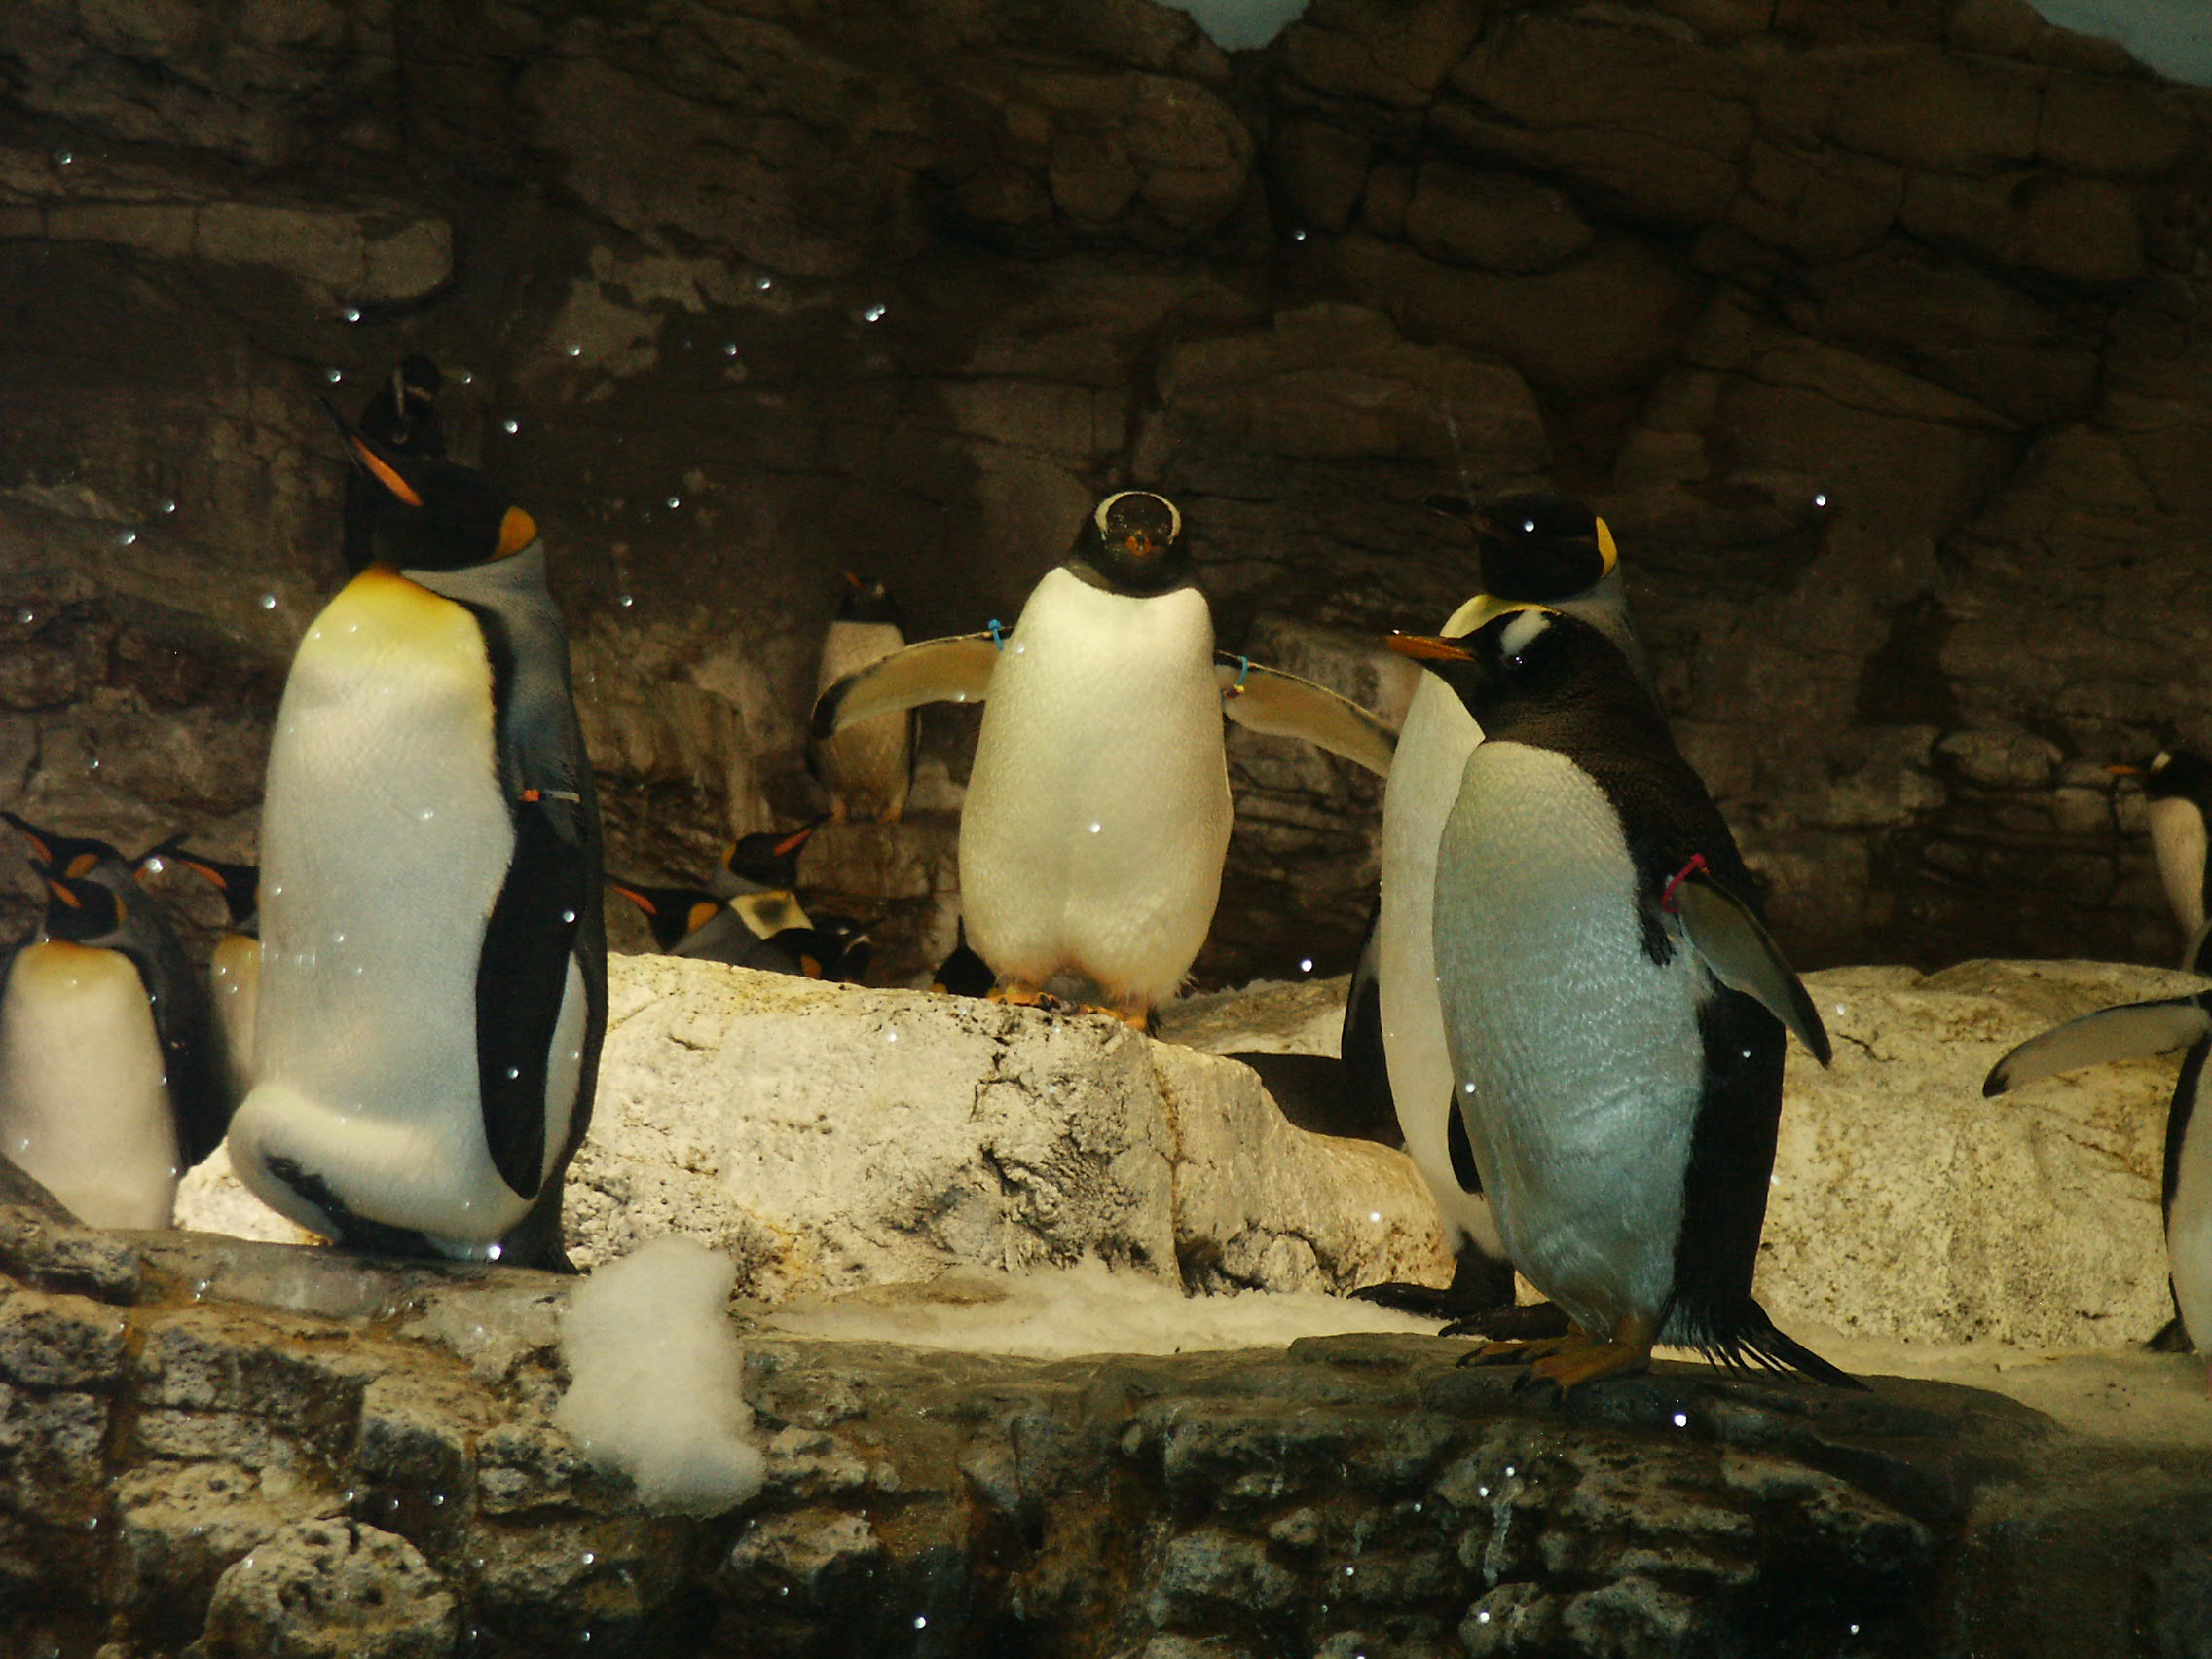penguin: (1388, 610, 1864, 1403), (249, 403, 613, 1276), (845, 493, 1392, 1018), (1399, 483, 1670, 1330), (14, 809, 216, 1262)
